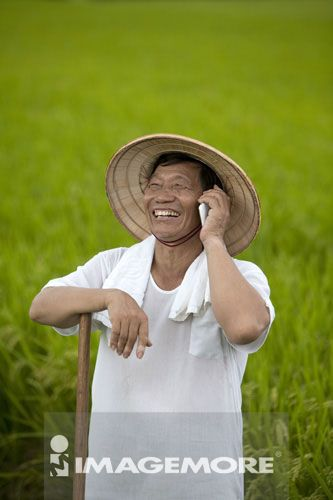talk: (146, 176, 231, 251)
